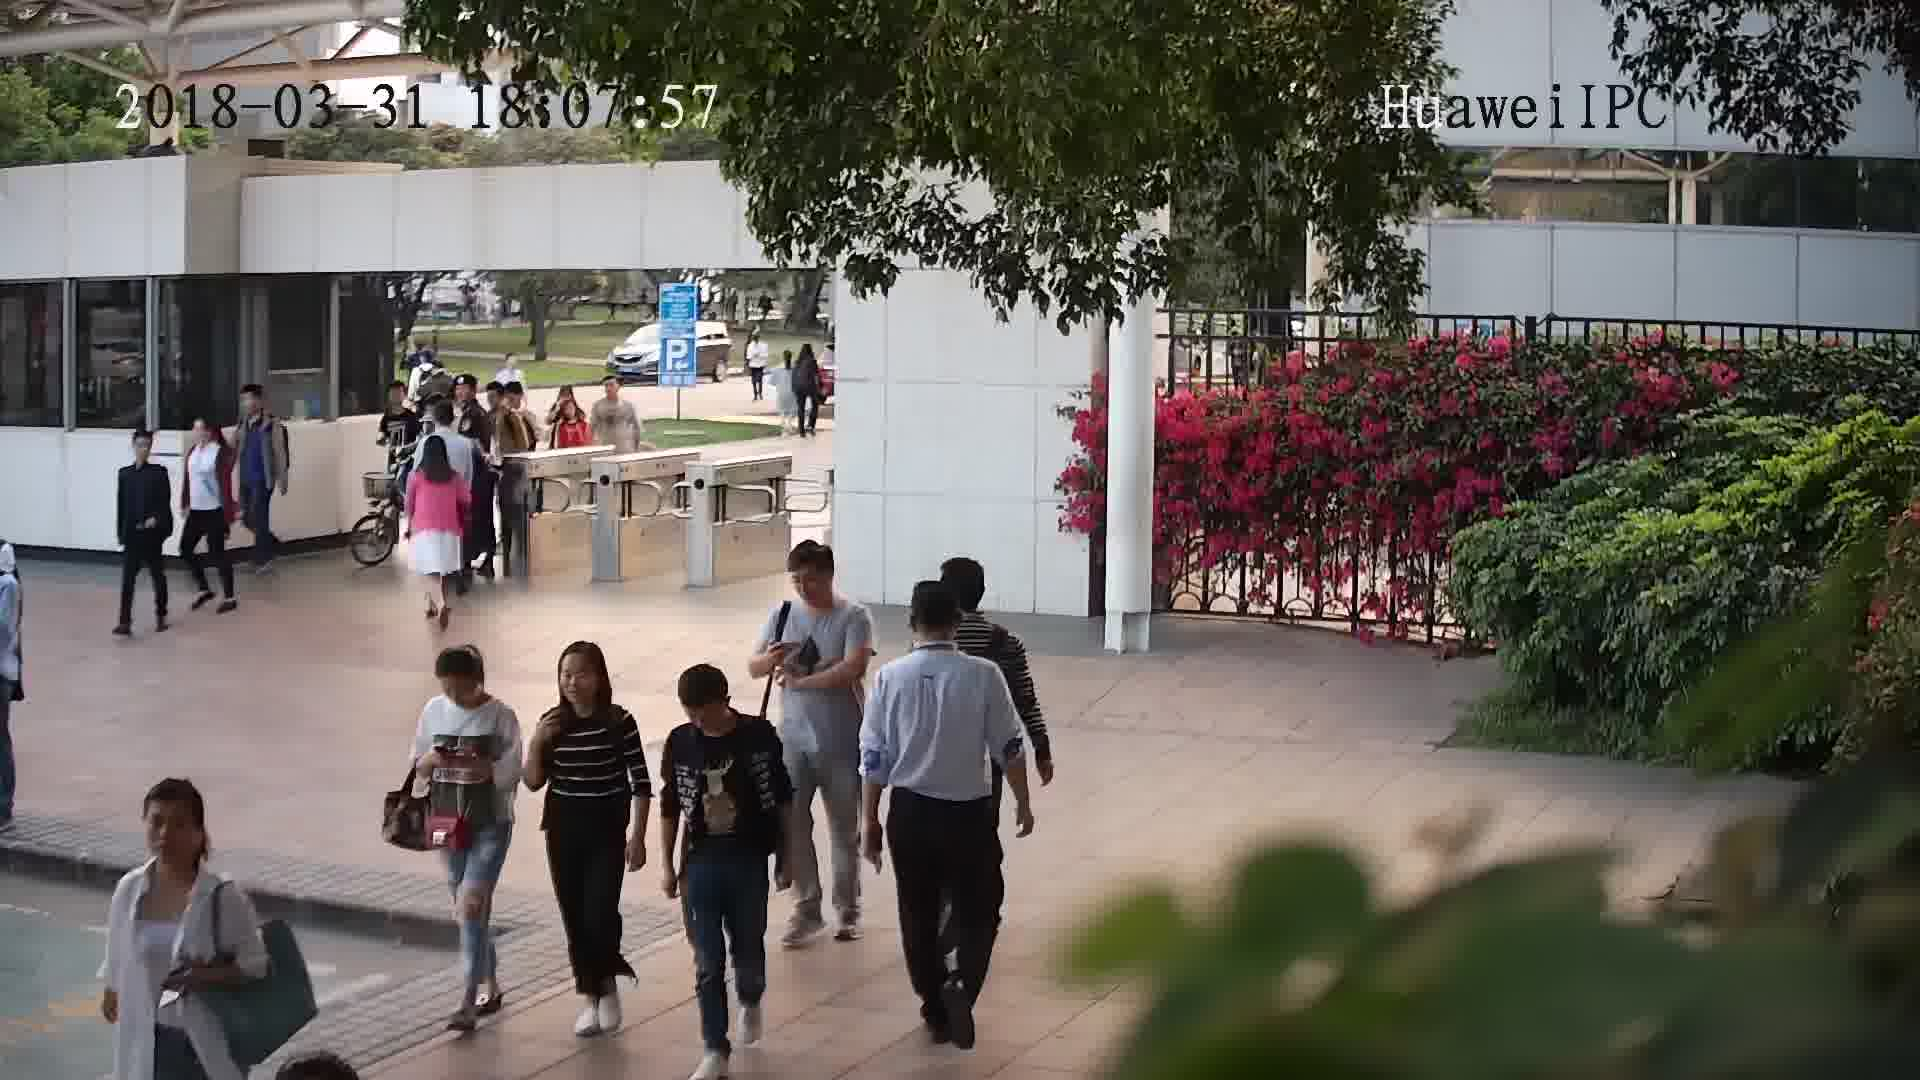face: (137, 798, 200, 862), (552, 651, 604, 703), (789, 561, 830, 602), (689, 696, 723, 730)
person: (115, 773, 249, 916), (871, 580, 1004, 703), (665, 659, 779, 759), (530, 640, 632, 741), (770, 538, 870, 635), (415, 644, 520, 737), (932, 555, 1018, 658), (116, 422, 170, 484), (406, 435, 464, 491), (448, 373, 494, 433), (183, 403, 229, 462), (422, 400, 474, 451), (233, 379, 280, 435), (503, 379, 547, 427), (379, 375, 421, 426), (593, 369, 640, 413), (480, 381, 524, 427), (549, 397, 599, 435), (495, 350, 526, 380)
